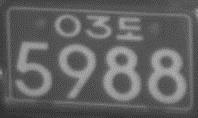0: (53, 13, 82, 38)
3: (84, 14, 112, 39)
5: (14, 40, 53, 98)
8: (102, 45, 142, 103), (147, 47, 187, 104)
9: (57, 43, 96, 99)
도: (115, 16, 143, 40)
